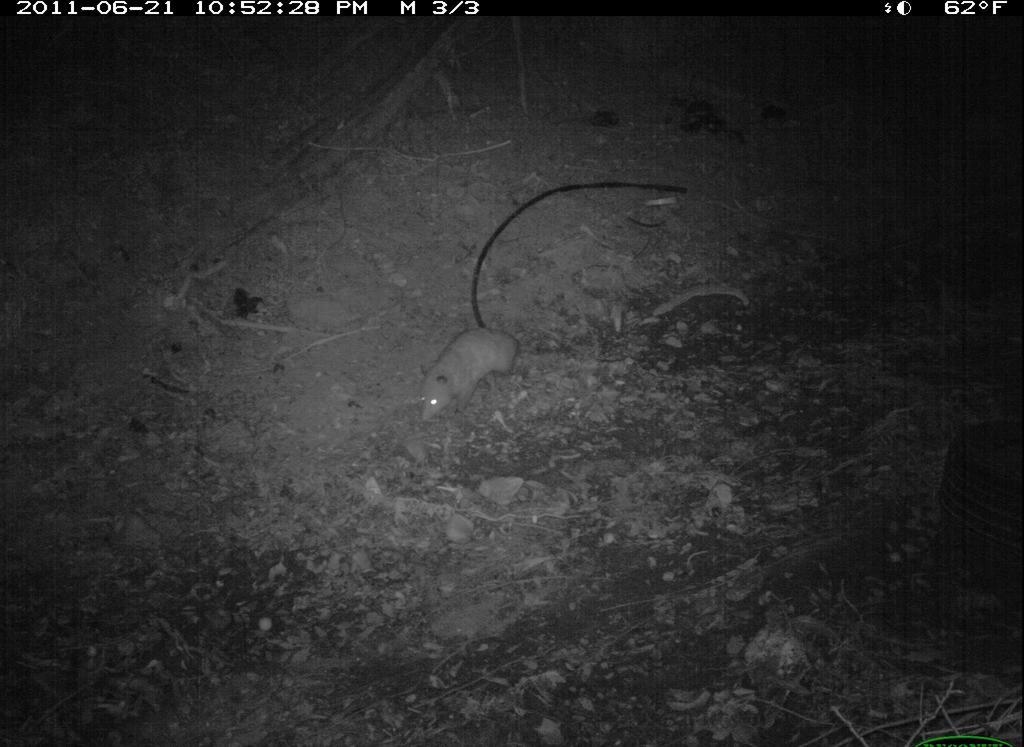opossum: (401, 315, 542, 428)
